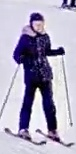skier: (0, 13, 76, 148)
